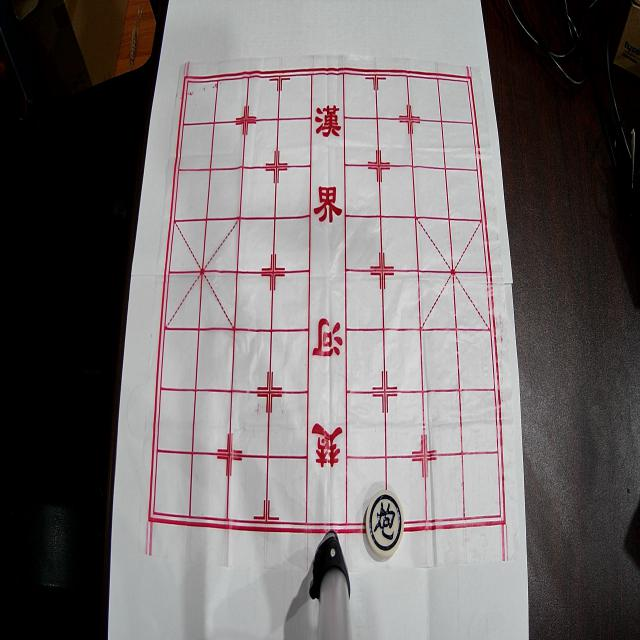black-cannon: (366, 490, 404, 557)
